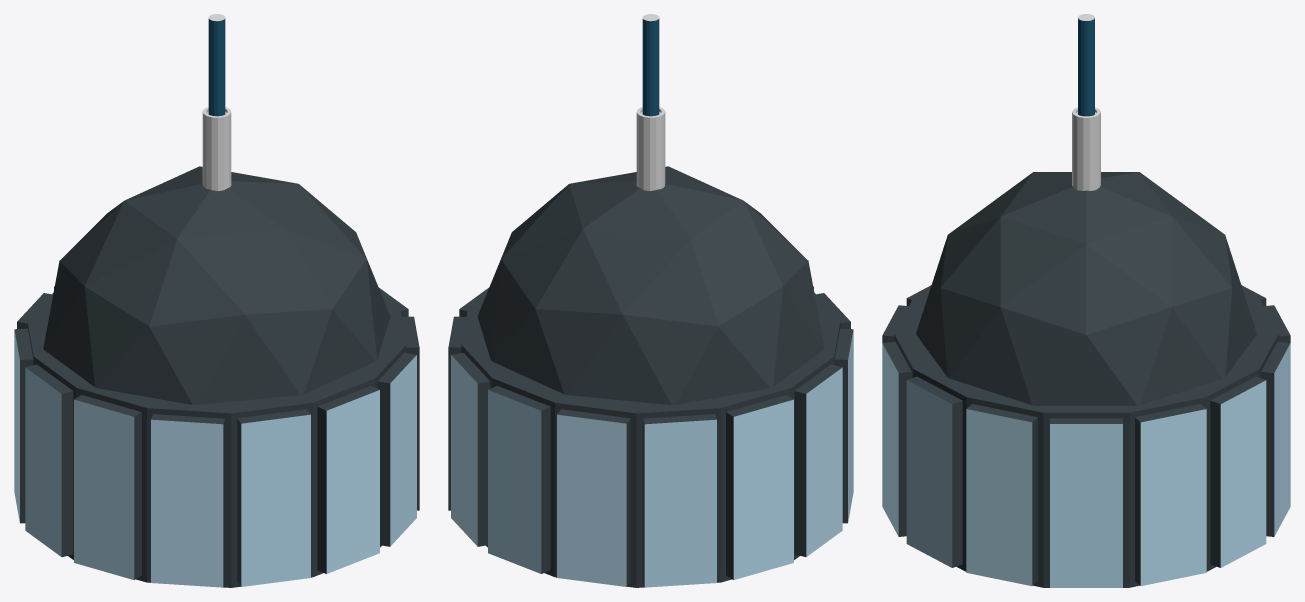
Rendered from Gun.fbx.
3 views of the same model, side by side, from view 1: azimuth 30°, elevation 25°; view 2: azimuth 150°, elevation 25°; view 3: azimuth 270°, elevation 25° (orthographic).
Parts seen in each view (by area): view 1: base, top; view 2: base, top; view 3: base, top.
Boxes of the visible parts, <box> form: base: <box>14,166,419,587</box>; top: <box>202,14,231,190</box>; base: <box>448,166,853,587</box>; top: <box>636,14,665,190</box>; base: <box>882,172,1290,587</box>; top: <box>1072,14,1100,190</box>.
Bounding box in the file's own units: 117 × 158 × 119.
